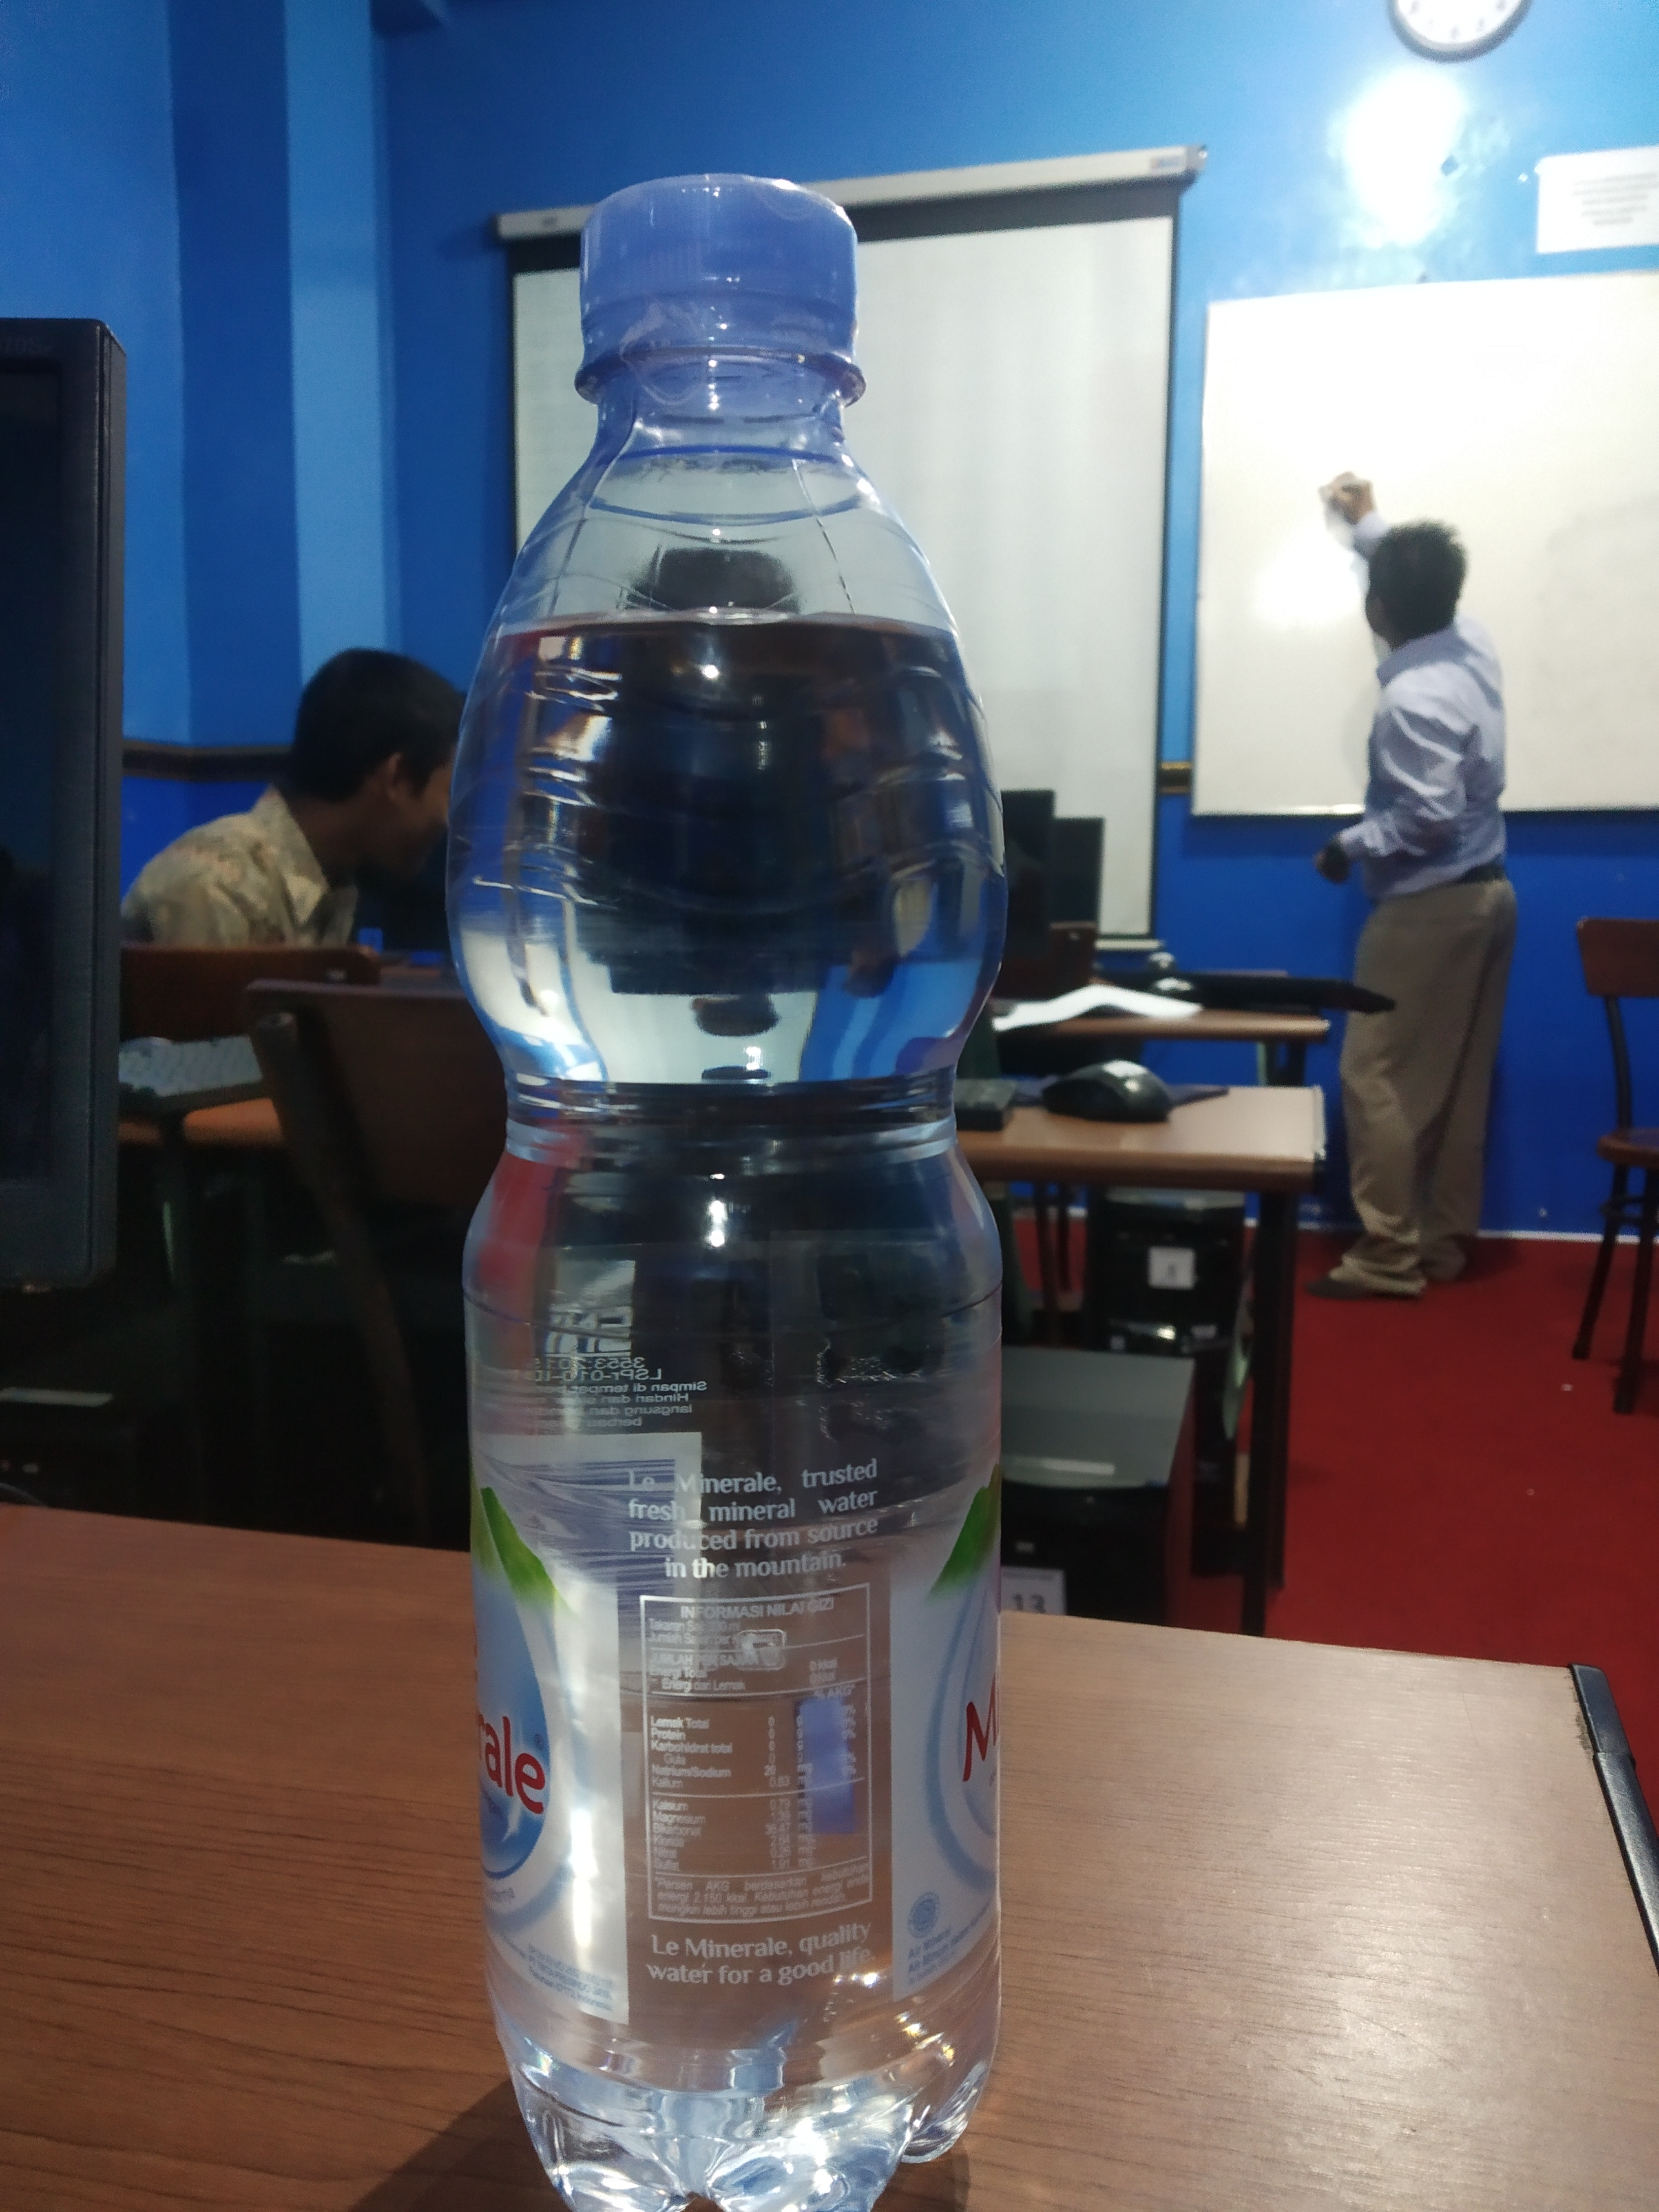botol_plastik: (441, 146, 1063, 2212)
